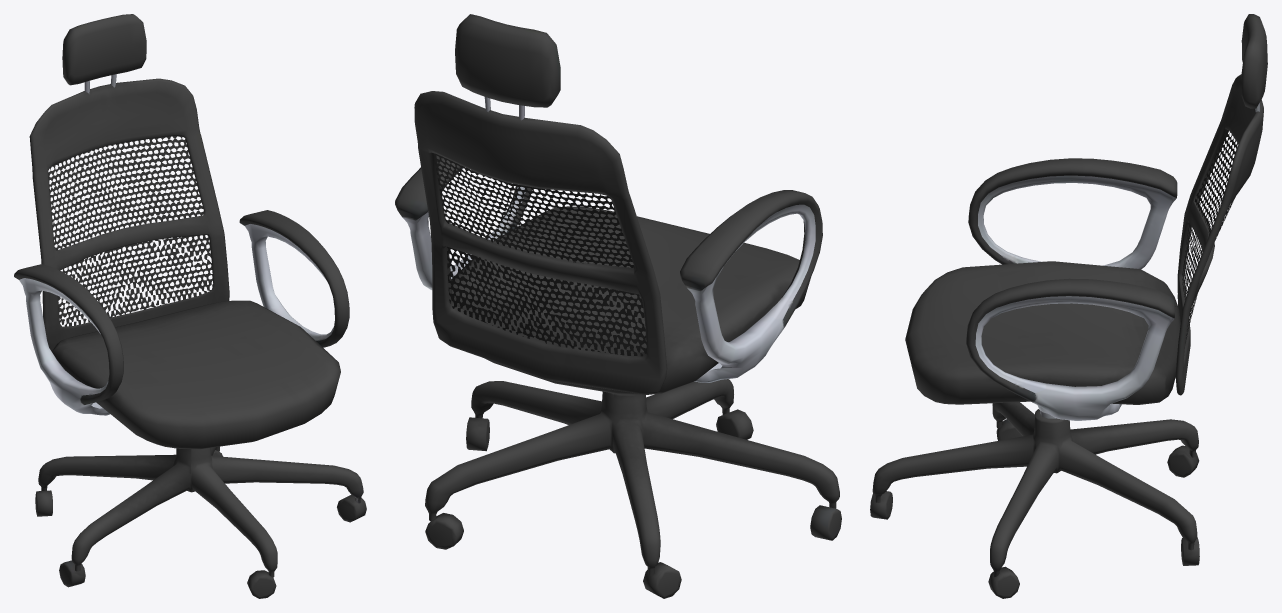
Rendered from chair_office.glb.
3 views of the same model, side by side, from view 1: azimuth 30°, elevation 25°; view 2: azimuth 150°, elevation 25°; view 3: azimuth 270°, elevation 25° (orthographic). The views are drawn at different scales.
Parts seen in each view (by area): view 1: chair.016_desk_0.001; view 2: chair.016_desk_0.001; view 3: chair.016_desk_0.001.
Part boxes in pixels (x1,y1,x2,y2): chair.016_desk_0.001: [14, 14, 366, 598]; chair.016_desk_0.001: [395, 14, 841, 598]; chair.016_desk_0.001: [870, 14, 1267, 598].
Size of the model in its own units: 0.7236 by 1.05 by 0.7708.
Materials: 1 (1 with a texture image).
